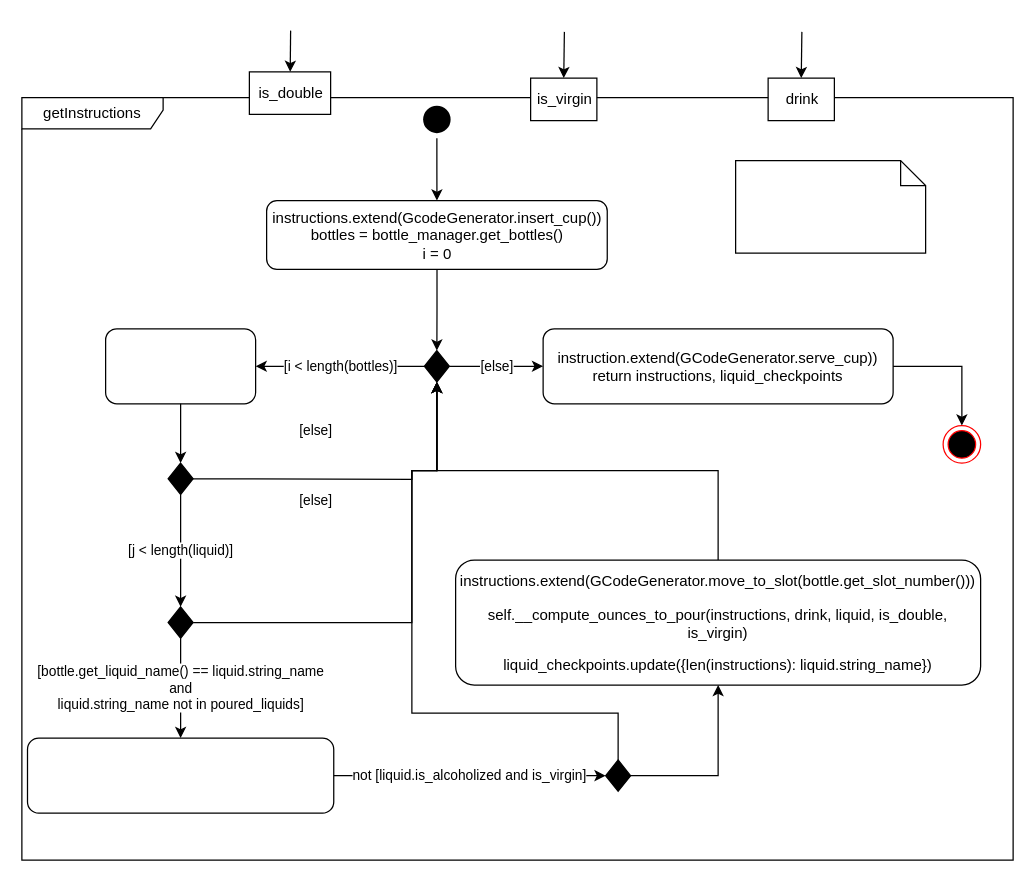
This 1035x883 diagram has some shape labels left out. Each missing label, with the centre of its shape:
"liquid = drink.liquids j = 0" belongs at pixel 180 366.
"Note: instructions = [] poured_liquids = [] liquid_checkpoints = {}" belongs at pixel 830 206.
"poured_liquids.append(liquid.string_name)" belongs at pixel 180 775.
